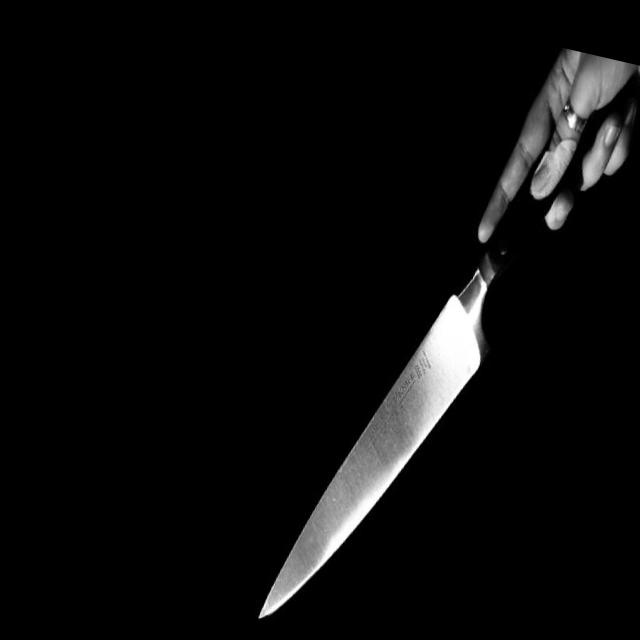Knife: (261, 183, 548, 616)
